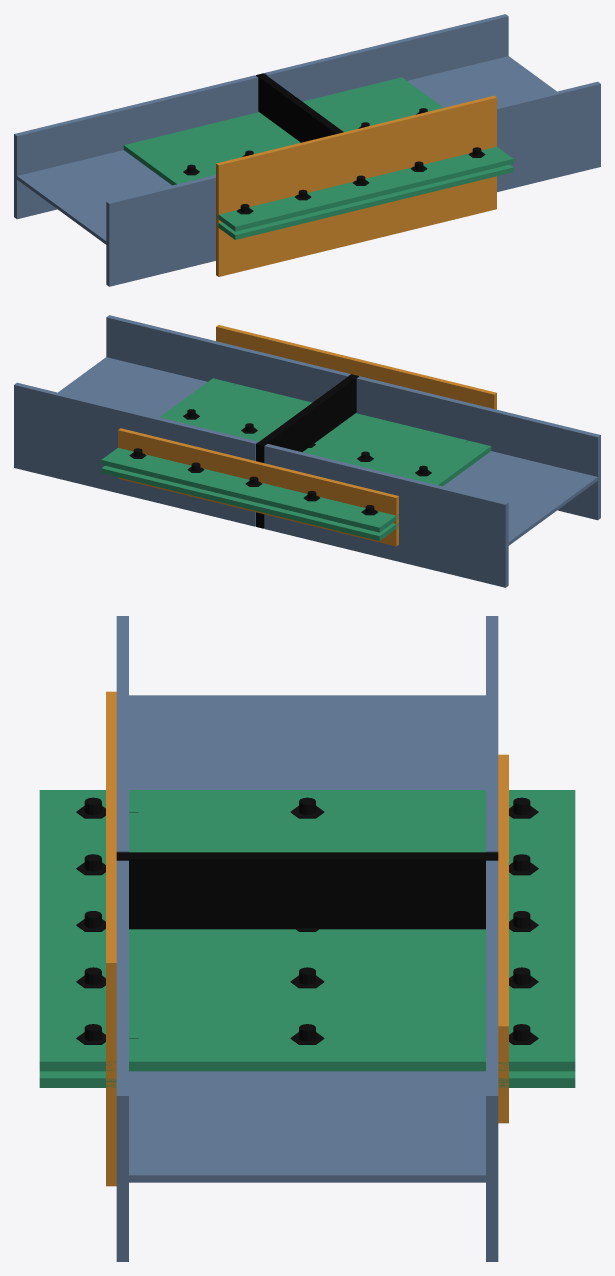
The model's file is detail_D2_splice_connection.obj.
3 renders of one model, top to bottom at view 1: azimuth 30°, elevation 25°; view 2: azimuth 150°, elevation 25°; view 3: azimuth 270°, elevation 25°, orthographic. The views are drawn at different scales.
Visible parts, largest first — view 1: D2_PL10_top_splice_P1, D2_PL10_web_splice_P2_near, D2_left_beam_segment_bottom_flange, D2_left_beam_segment_top_flange, D2_right_beam_segment_bottom_flange, D2_right_beam_segment_top_flange, D2_left_beam_segment_web, D2_right_beam_segment_web, D2_splice_center_gap_marker, D2_PL10_web_splice_P2_far; view 2: D2_PL10_web_splice_P2_near, D2_left_beam_segment_bottom_flange, D2_right_beam_segment_bottom_flange, D2_left_beam_segment_top_flange, D2_right_beam_segment_top_flange, D2_PL10_bottom_splice_P3, D2_left_beam_segment_web, D2_PL10_top_splice_P1, D2_right_beam_segment_web, D2_splice_center_gap_marker, D2_PL10_web_splice_P2_far; view 3: D2_PL10_web_splice_P2_near, D2_right_beam_segment_web, D2_left_beam_segment_web, D2_splice_center_gap_marker, D2_PL10_top_splice_P1, D2_right_beam_segment_top_flange, D2_right_beam_segment_bottom_flange, D2_PL10_bottom_splice_P3, D2_left_beam_segment_top_flange, D2_left_beam_segment_bottom_flange, D2_PL10_web_splice_P2_far.
Boxes of the visible parts, x1=… form: D2_PL10_top_splice_P1: x1=216, y1=95, x2=496, y2=276; D2_PL10_web_splice_P2_near: x1=123, y1=77, x2=513, y2=231; D2_left_beam_segment_bottom_flange: x1=14, y1=75, x2=258, y2=219; D2_left_beam_segment_top_flange: x1=106, y1=175, x2=215, y2=286; D2_right_beam_segment_bottom_flange: x1=264, y1=14, x2=508, y2=101; D2_right_beam_segment_top_flange: x1=497, y1=81, x2=600, y2=191; D2_left_beam_segment_web: x1=17, y1=150, x2=171, y2=244; D2_right_beam_segment_web: x1=407, y1=56, x2=556, y2=107; D2_splice_center_gap_marker: x1=256, y1=73, x2=343, y2=142; D2_PL10_web_splice_P2_far: x1=216, y1=164, x2=513, y2=239; D2_PL10_web_splice_P2_near: x1=101, y1=378, x2=491, y2=532; D2_left_beam_segment_bottom_flange: x1=264, y1=444, x2=508, y2=587; D2_right_beam_segment_bottom_flange: x1=14, y1=382, x2=258, y2=526; D2_left_beam_segment_top_flange: x1=356, y1=376, x2=600, y2=520; D2_right_beam_segment_top_flange: x1=106, y1=315, x2=350, y2=402; D2_PL10_bottom_splice_P3: x1=118, y1=428, x2=398, y2=546; D2_left_beam_segment_web: x1=443, y1=451, x2=597, y2=545; D2_PL10_top_splice_P1: x1=216, y1=325, x2=496, y2=409; D2_right_beam_segment_web: x1=58, y1=357, x2=207, y2=417; D2_splice_center_gap_marker: x1=256, y1=374, x2=358, y2=528; D2_PL10_web_splice_P2_far: x1=101, y1=465, x2=398, y2=540; D2_PL10_web_splice_P2_near: x1=39, y1=790, x2=575, y2=1071; D2_right_beam_segment_web: x1=129, y1=1071, x2=485, y2=1182; D2_left_beam_segment_web: x1=129, y1=695, x2=485, y2=789; D2_splice_center_gap_marker: x1=116, y1=852, x2=498, y2=929; D2_PL10_top_splice_P1: x1=106, y1=691, x2=116, y2=1186; D2_right_beam_segment_top_flange: x1=116, y1=860, x2=128, y2=1261; D2_right_beam_segment_bottom_flange: x1=486, y1=860, x2=498, y2=1261; D2_PL10_bottom_splice_P3: x1=498, y1=754, x2=508, y2=1123; D2_left_beam_segment_top_flange: x1=116, y1=616, x2=128, y2=852; D2_left_beam_segment_bottom_flange: x1=486, y1=616, x2=498, y2=852; D2_PL10_web_splice_P2_far: x1=39, y1=1071, x2=575, y2=1087.
Size of the model in its own units: 1060 by 230 by 500.
